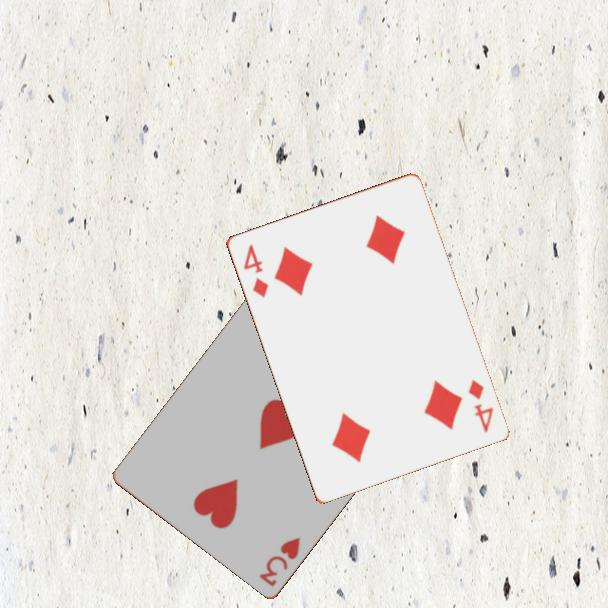d04: (239, 241, 271, 300), (464, 376, 496, 435)
h03: (255, 533, 303, 589)
